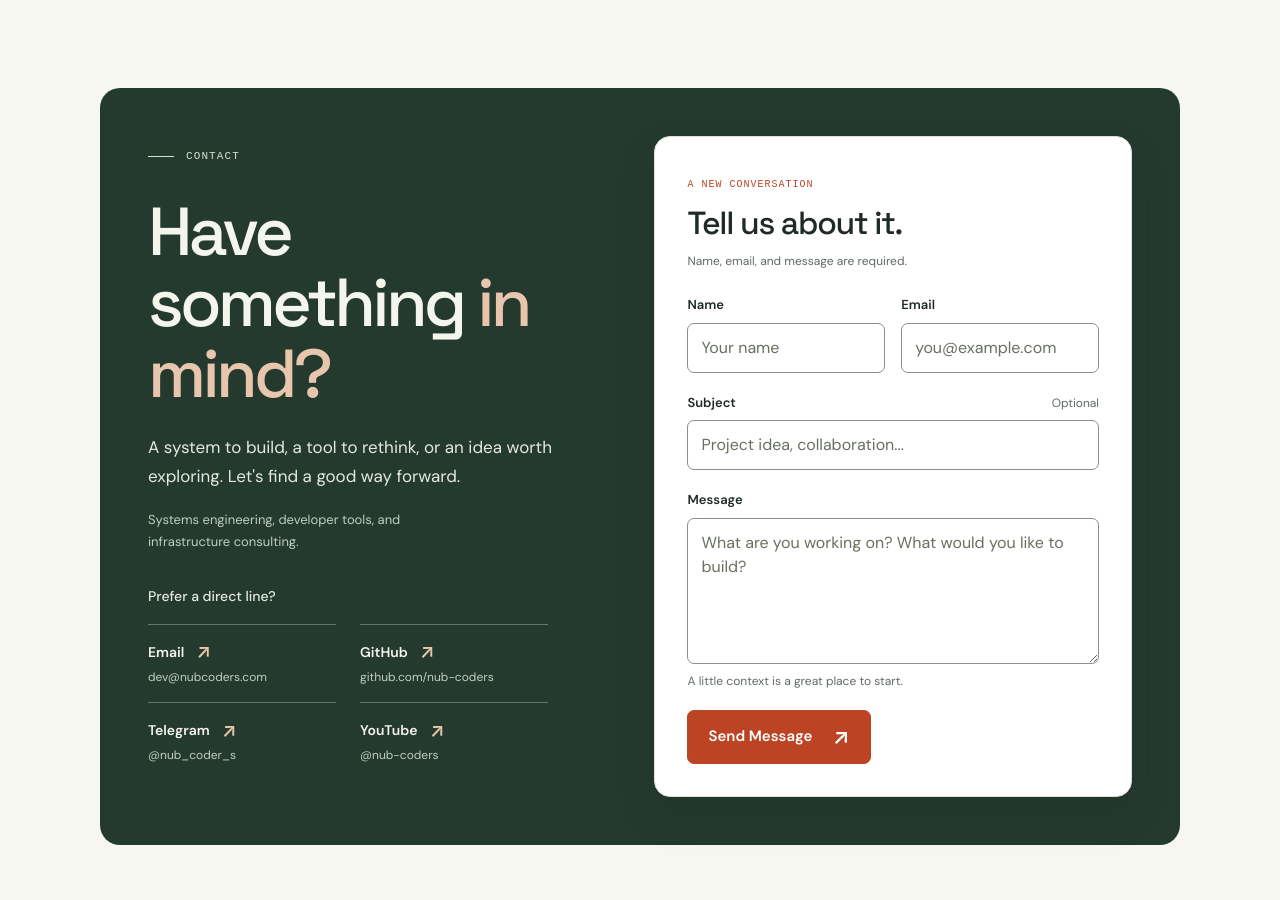
Scenario: ContactSection › shows a validation error without hitting the API when fields are empty
The image size is (1280, 900).
Click the button "Send Message ↗" at (779,737), box 688,710 -> 871,764
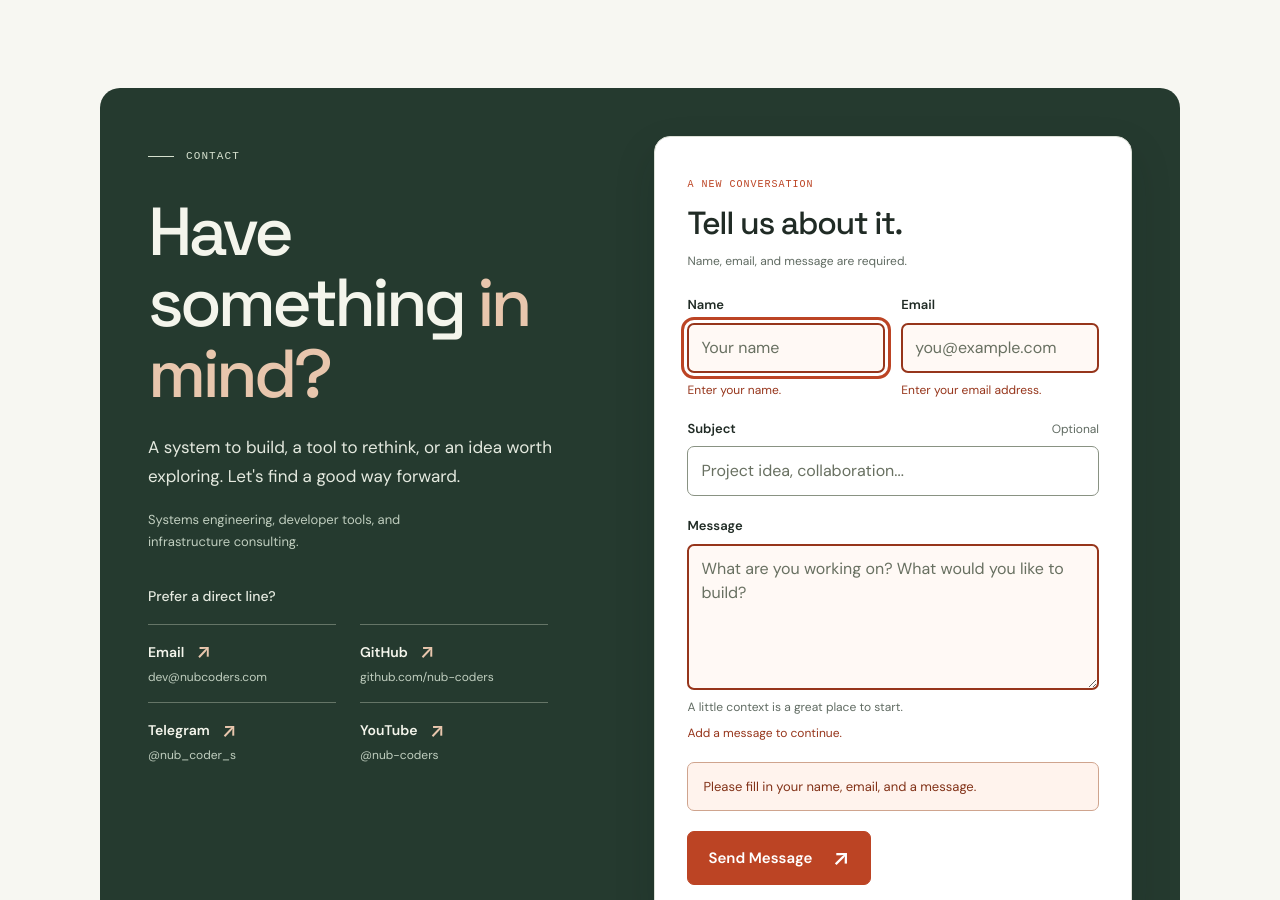
Expected: the text "Please fill in your name, email, and a message." is shown, 688,762 -> 1099,811
